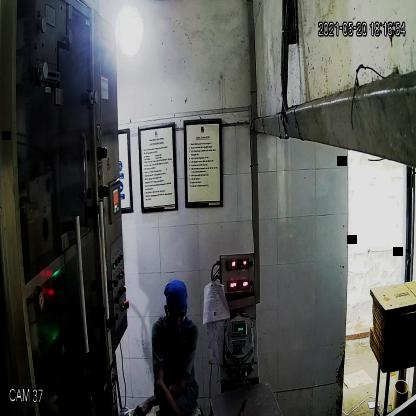goggles: (164, 305, 191, 324)
